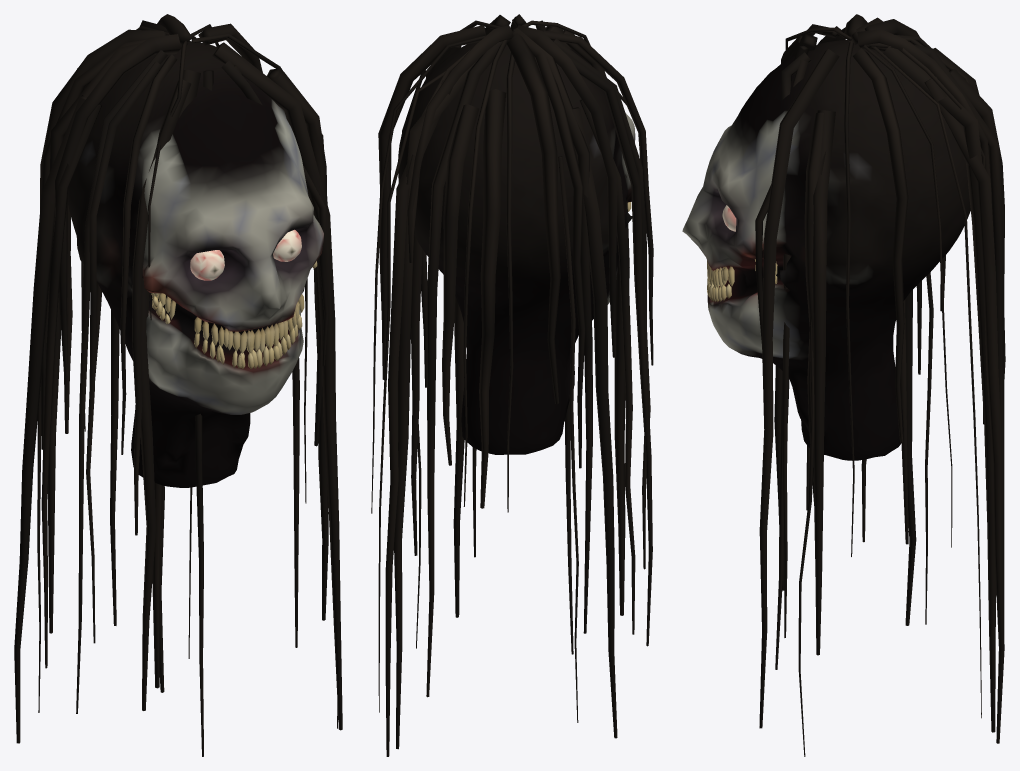
The model's file is grinner_head_xlo.glb.
3 views of the same model, side by side, from view 1: azimuth 30°, elevation 25°; view 2: azimuth 150°, elevation 25°; view 3: azimuth 270°, elevation 25° (orthographic). The views are drawn at different scales.
Visible parts, largest first — view 1: grinner_head; view 2: grinner_head; view 3: grinner_head.
Boxes of the visible parts, box(x1,y1,x2,y2) form: grinner_head: box(14, 14, 342, 756); grinner_head: box(371, 14, 653, 756); grinner_head: box(682, 14, 1005, 756).
Bounding box in the file's own units: 0.2285 × 0.5999 × 0.2543.
